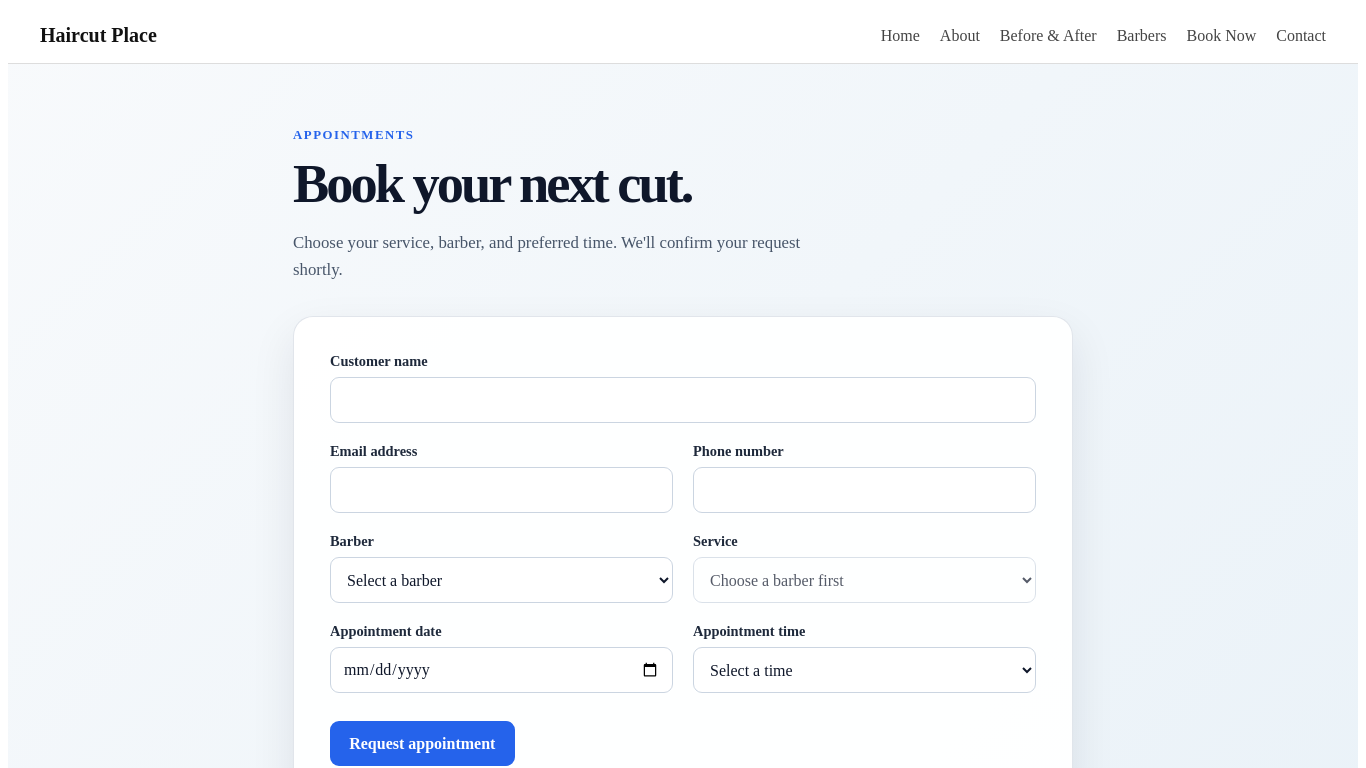
Test case: BookNowPage › shows email validation error
Type "invalid-email" into the field labelled "Email address" at (502, 490), box [330,467,673,513]
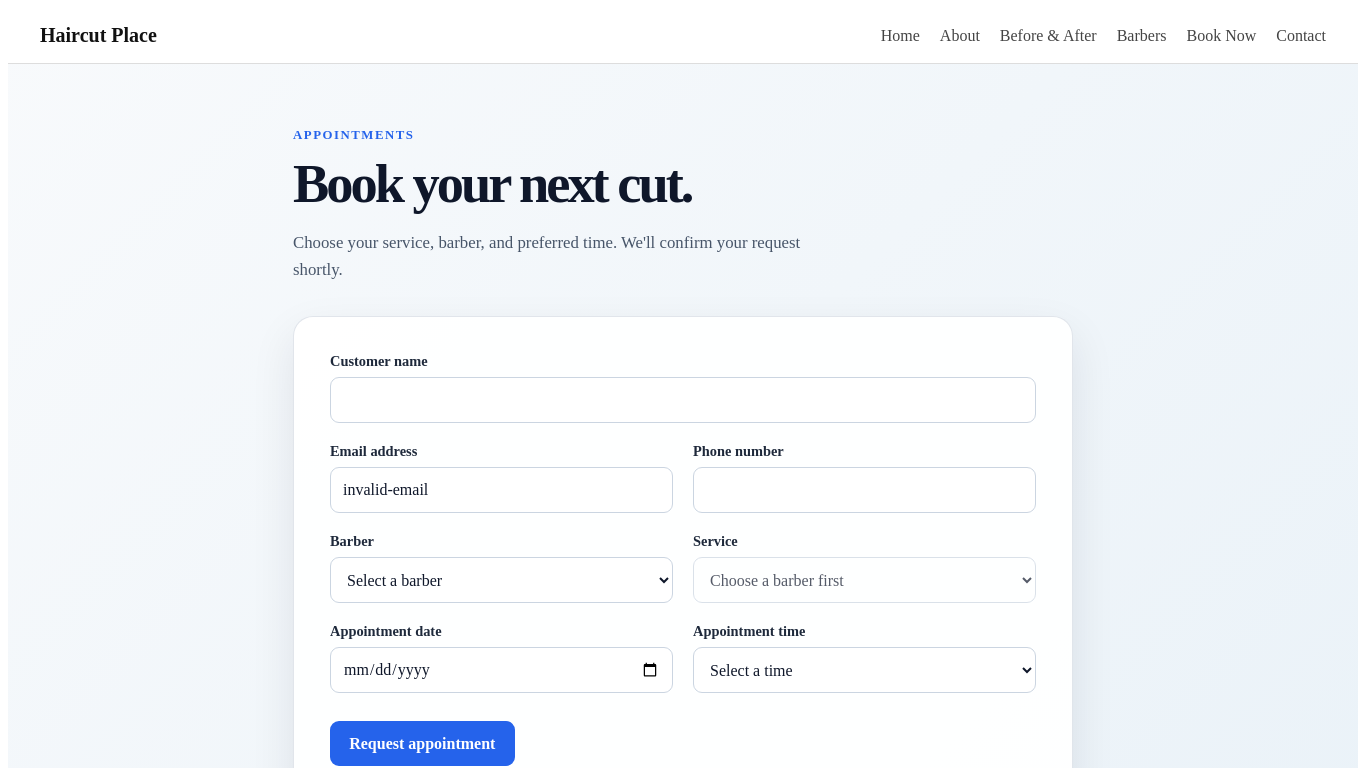
Click the button "Request appointment" at (422, 744), box [330,721,515,766]
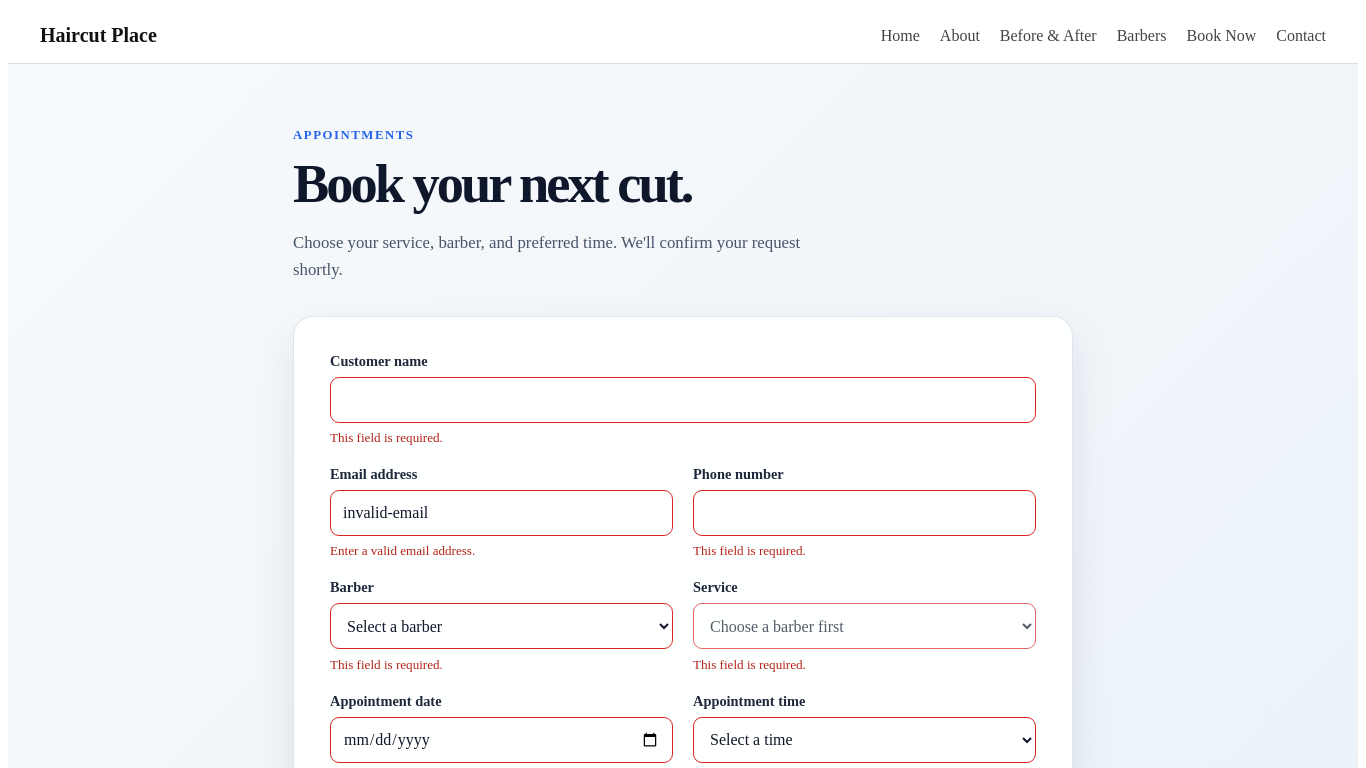
Expected: the text "Enter a valid email address." is shown, [330,543,475,558]
